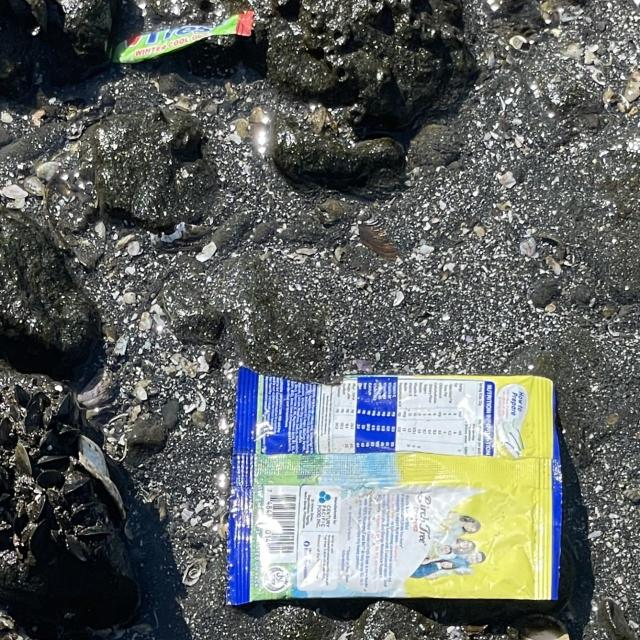plastic_waste: (230, 367, 565, 603), (113, 14, 260, 64)
